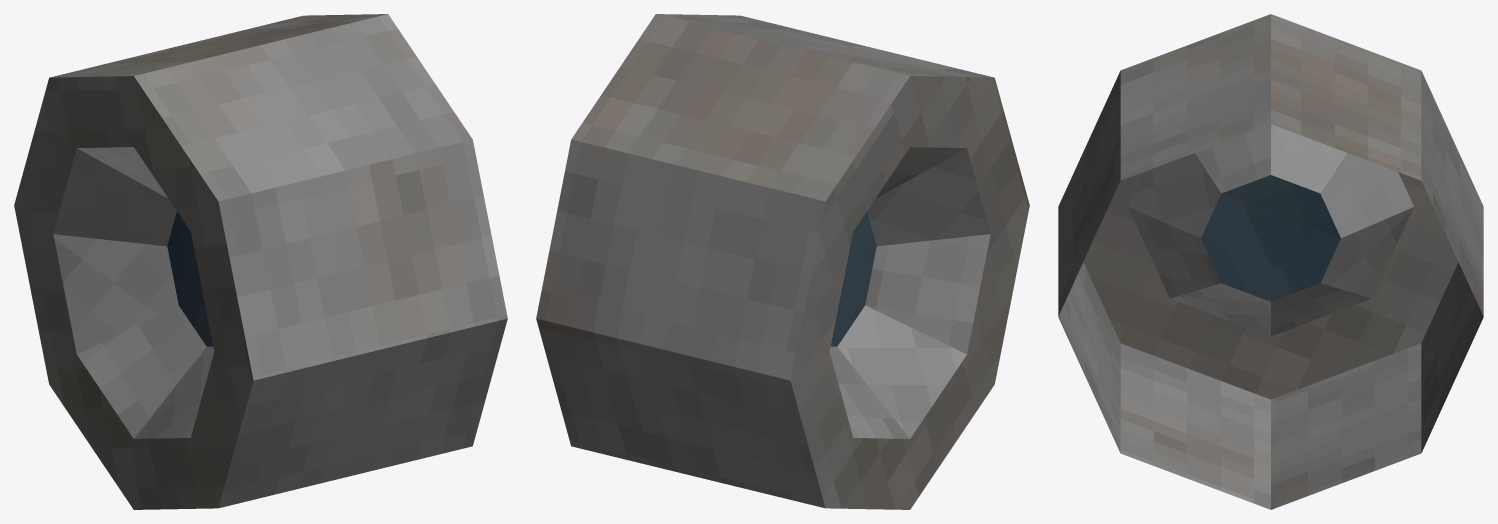
Rendered from PeepHole.gltf.
3 renders of one model, left to right at view 1: azimuth 30°, elevation 25°; view 2: azimuth 150°, elevation 25°; view 3: azimuth 270°, elevation 25°, orthographic. The views are drawn at different scales.
Visible parts, largest first — view 1: PeepHole; view 2: PeepHole; view 3: PeepHole.
Part boxes in pixels (box(x1,y1,x2,y2)): PeepHole: box(14, 14, 507, 509); PeepHole: box(536, 14, 1029, 509); PeepHole: box(1058, 14, 1483, 509).
Bounding box in the file's own units: 0.059 × 0.0962 × 0.0962.
1 material, 1 textured.
